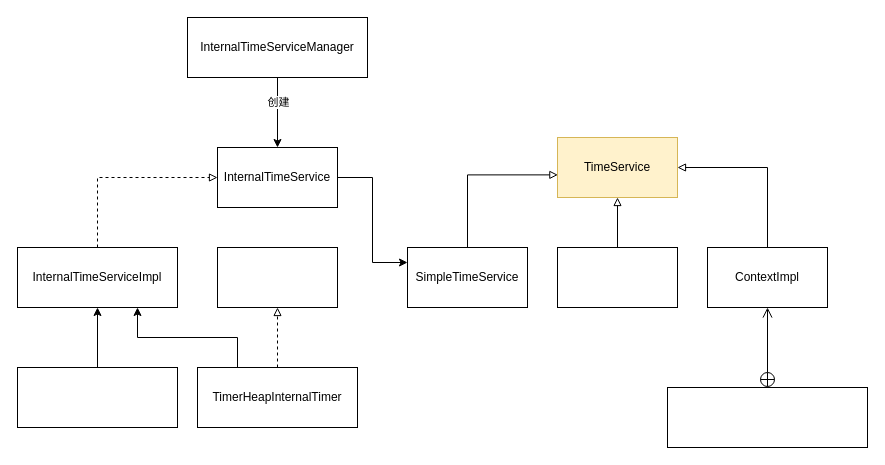
This 885x465 diagram has some shape labels left out. The box of each missing label's shape, as (x1, y1, x2, y2) in pixels:
AbstractProcessStreamOperator: (666, 386, 868, 448)
InternalTimer: (216, 246, 338, 308)
LazyTimeService: (556, 246, 678, 308)
ProcessingTimeService: (16, 366, 178, 428)
